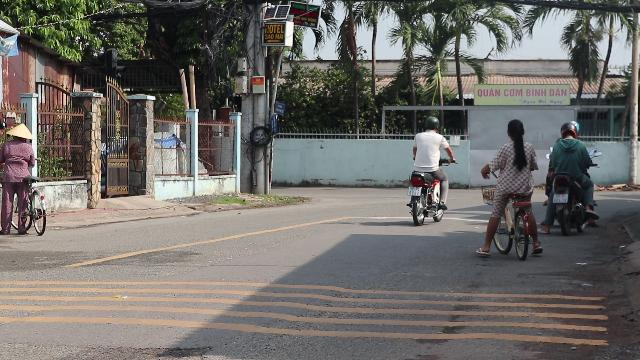helmet: (558, 120, 578, 140), (422, 115, 438, 131)
licenseplate: (552, 194, 568, 202), (407, 187, 421, 195)
motorcyclist: (542, 120, 598, 234), (403, 114, 451, 224)
